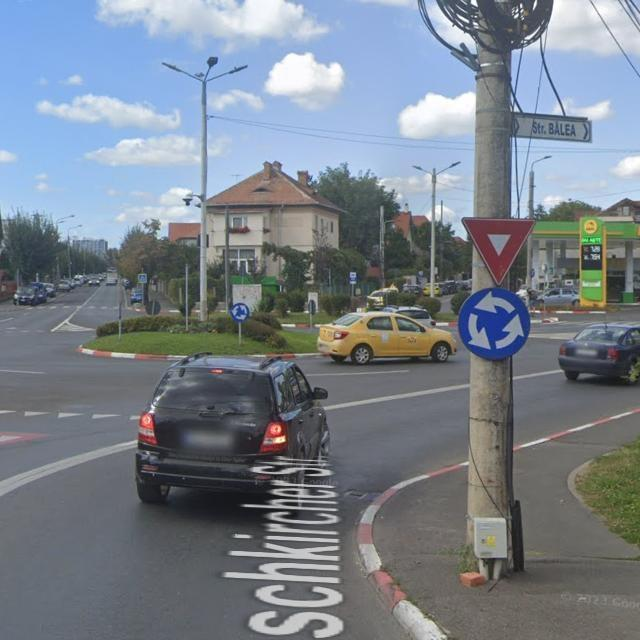prio_give_way: (461, 216, 534, 286)
